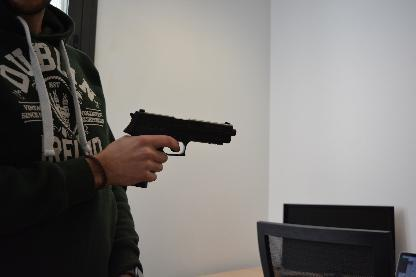pistol: (122, 108, 236, 188)
